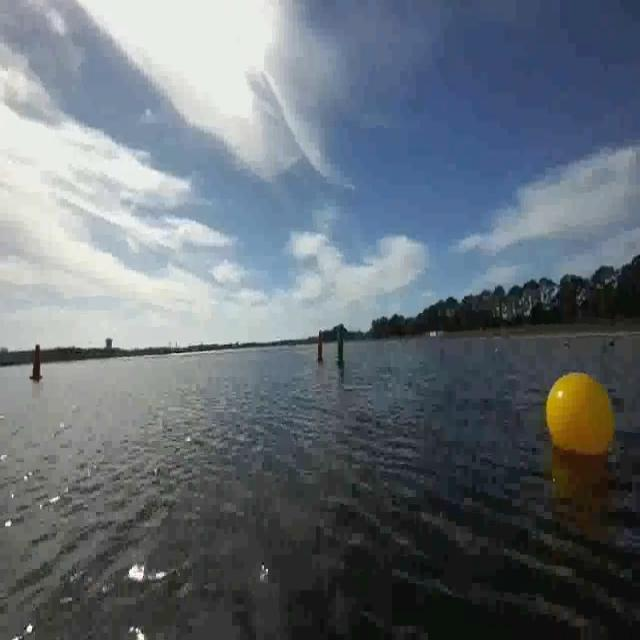green-column-buoy: (334, 326, 348, 368)
red-column-buoy: (27, 343, 42, 383), (314, 330, 326, 365)
yellow-buoy: (545, 369, 617, 457)
